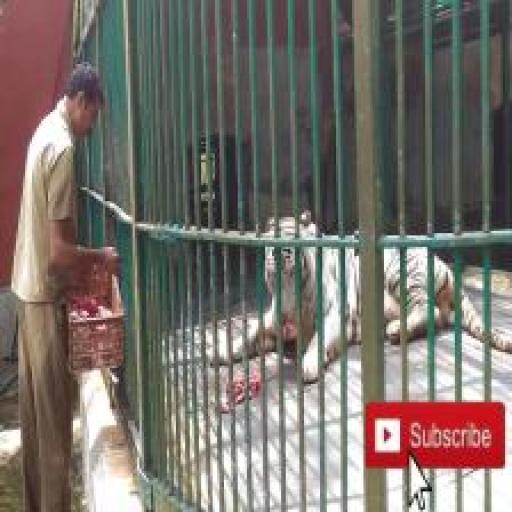Tiger: (206, 210, 511, 384)
